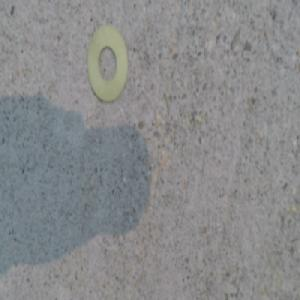Washer: (84, 28, 126, 106)
